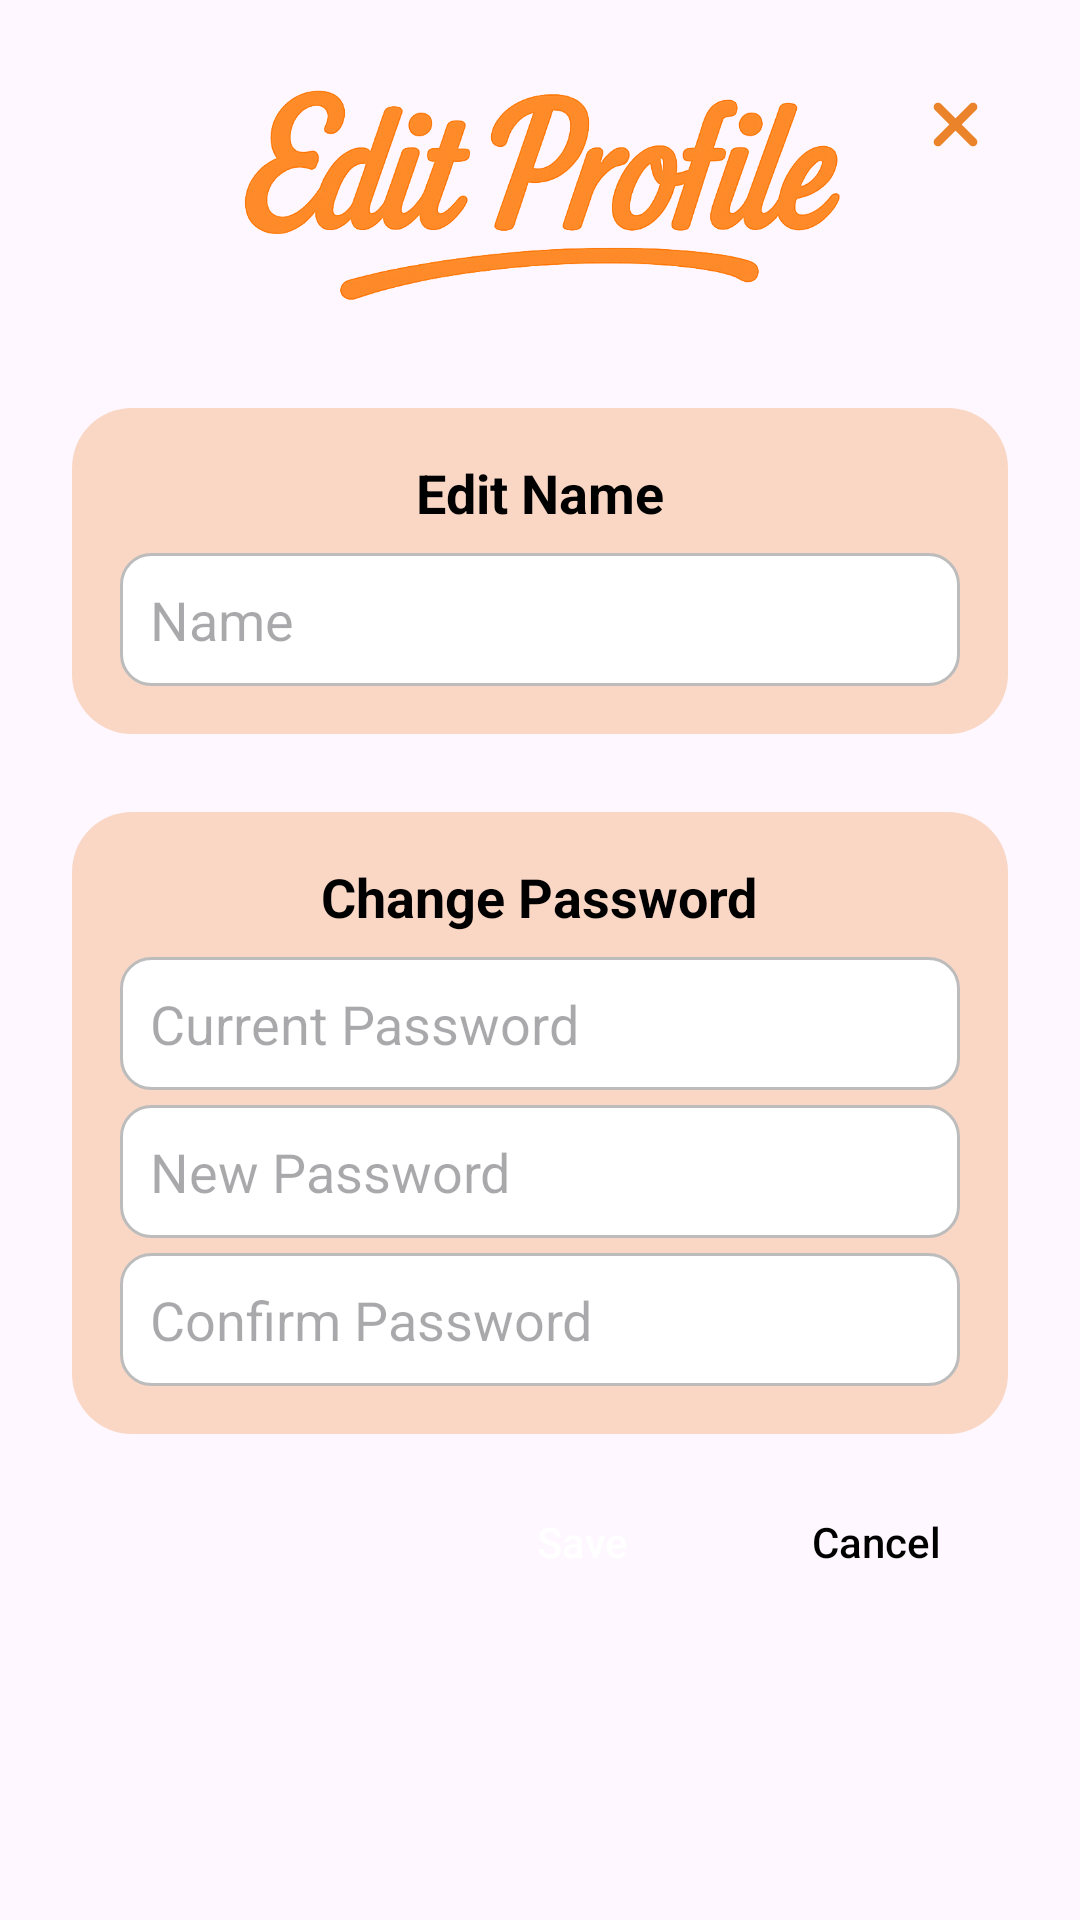

Icons on this 1080 × 1920 Android screen, each with its box as (x1, y1, x2, y2):
Close Button: (933, 102, 978, 147)
